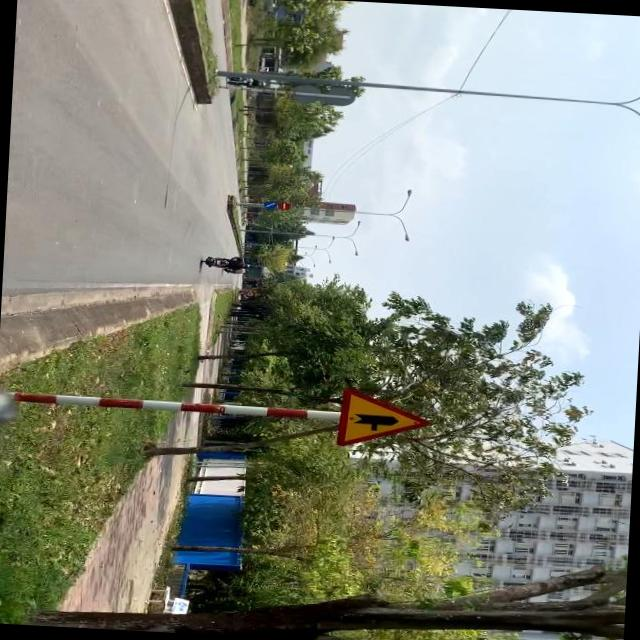W-207b: (332, 386, 432, 450)
